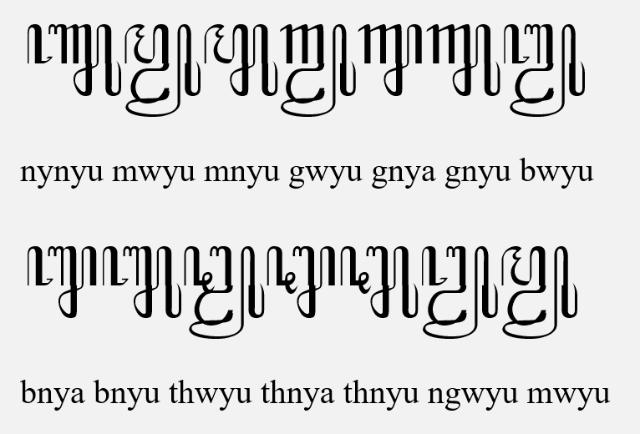bny: (27, 245, 98, 319)
bnyu: (102, 245, 182, 319)
bwyu: (502, 22, 586, 117)
gny: (357, 23, 423, 97)
gnyu: (426, 23, 502, 97)
gwyu: (279, 24, 357, 118)
mnyu: (204, 22, 278, 96)
mwyu: (500, 244, 578, 340), (125, 22, 202, 118)
ngwyu: (421, 245, 499, 341)
nynyu: (27, 23, 122, 97)
thny: (266, 247, 336, 320)
thnyu: (339, 245, 418, 318)
thwyu: (183, 246, 264, 340)
